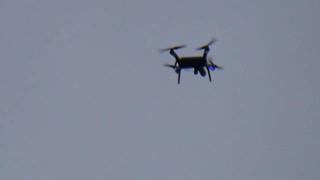UAV: (158, 38, 224, 85)
